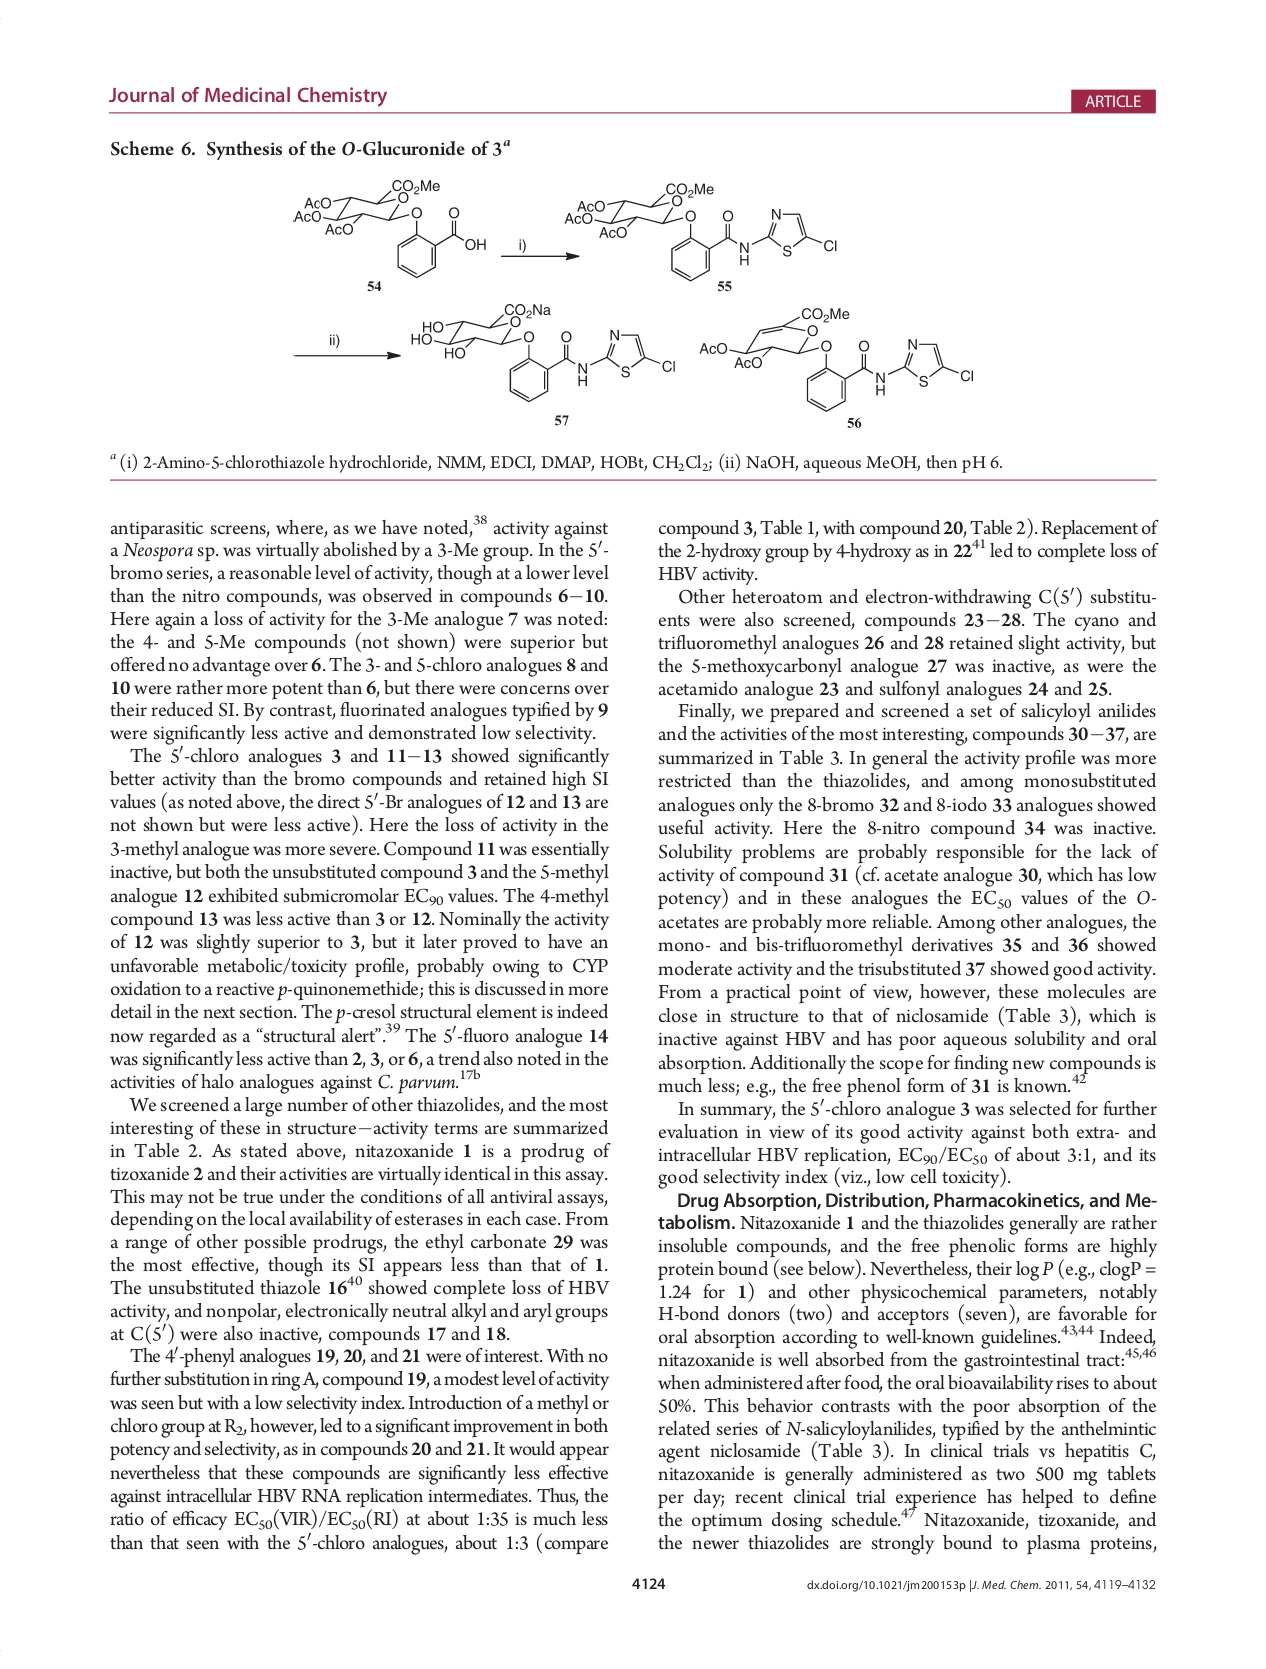exist_molecular: (696, 303, 976, 414), (563, 177, 840, 283), (408, 301, 681, 406), (289, 173, 489, 281)
